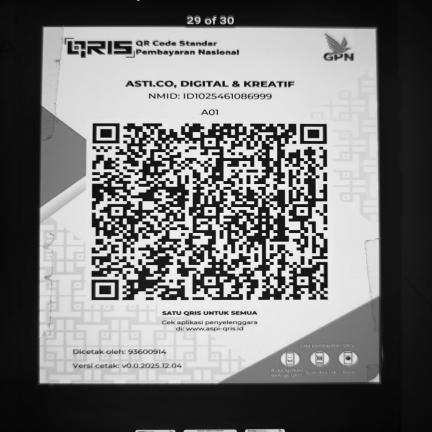Qris-Positioning: (40, 26, 379, 384)
